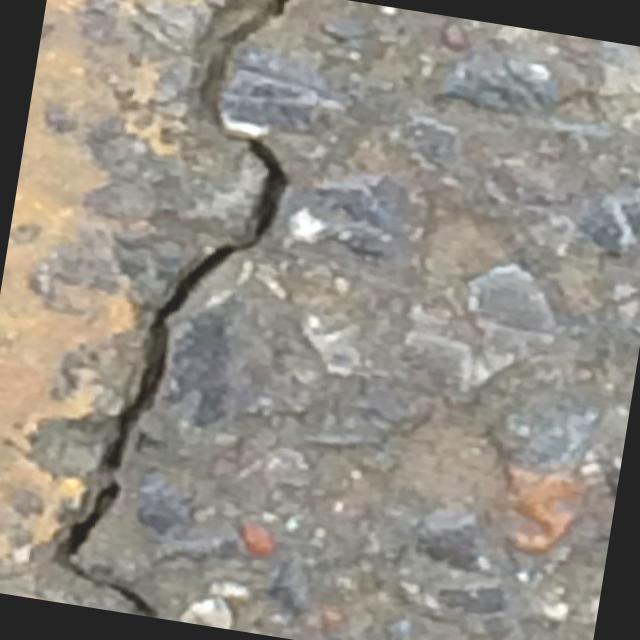crack: (41, 0, 330, 624)
